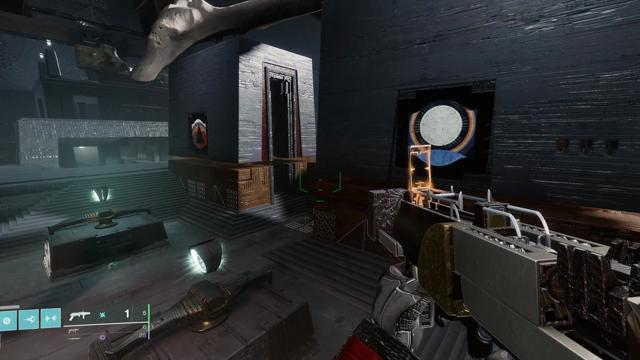pyramid: (191, 120, 207, 149)
traveler: (408, 100, 476, 166)
